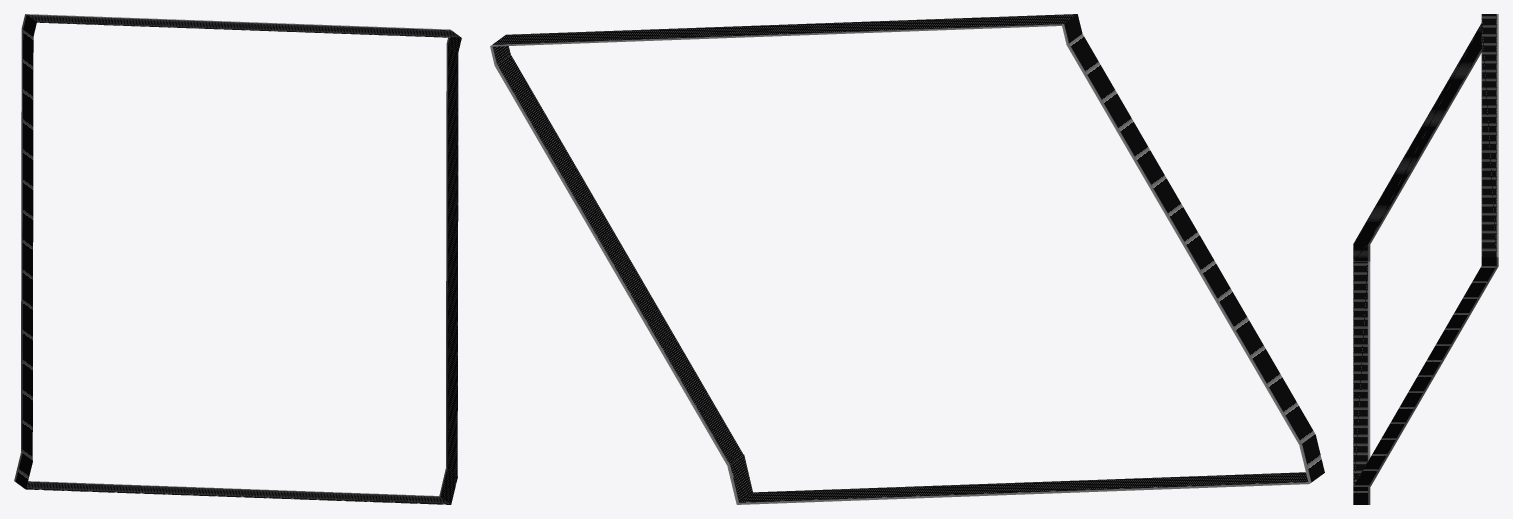
File: _0TRIBUENE_02_023_SUB0.obj
3 views of the same model, side by side, from view 1: azimuth 30°, elevation 25°; view 2: azimuth 150°, elevation 25°; view 3: azimuth 270°, elevation 25° (orthographic). The views are drawn at different scales.
Visible parts, largest first — view 1: _0TRIBUENE_02_023_SUB0_Scene.182; view 2: _0TRIBUENE_02_023_SUB0_Scene.182; view 3: _0TRIBUENE_02_023_SUB0_Scene.182.
Part boxes in pixels (left/top/right/bottom): _0TRIBUENE_02_023_SUB0_Scene.182: left=14, top=14, right=461, bottom=504; _0TRIBUENE_02_023_SUB0_Scene.182: left=490, top=14, right=1324, bottom=504; _0TRIBUENE_02_023_SUB0_Scene.182: left=1353, top=14, right=1498, bottom=504.
Size of the model in its own units: 3923 by 3584 by 1272.
